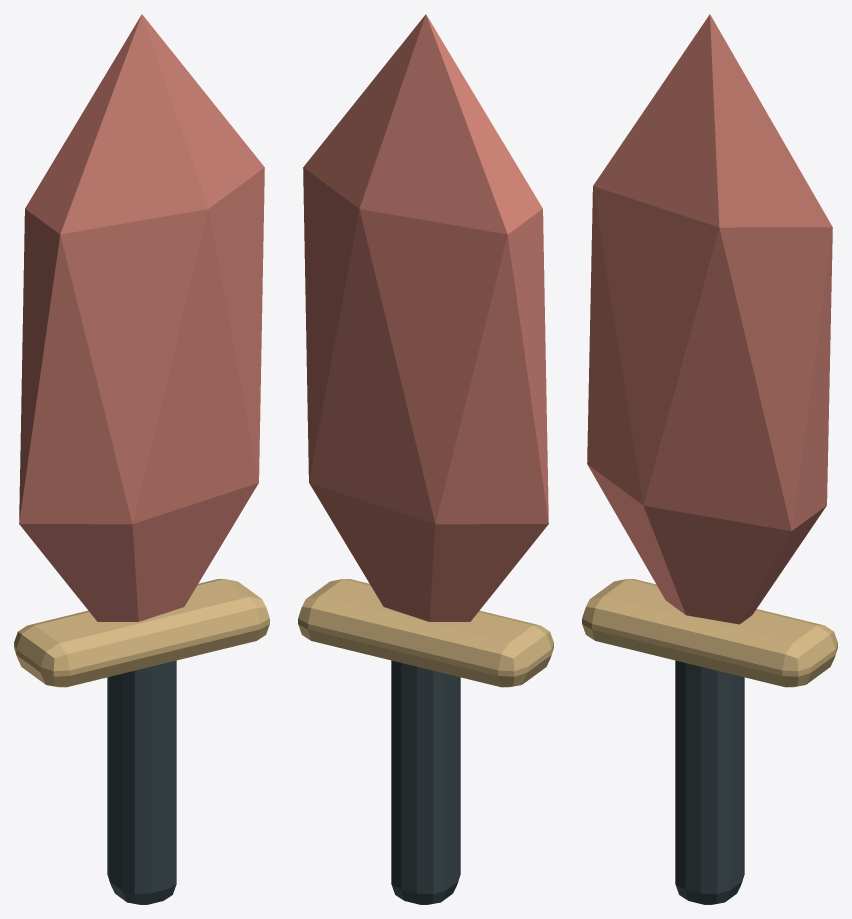
File: arm_relay_weapon.glb
3 views of the same model, side by side, from view 1: azimuth 30°, elevation 25°; view 2: azimuth 150°, elevation 25°; view 3: azimuth 330°, elevation 25° (orthographic).
Visible parts, largest first — view 1: arm_relay_weapon; view 2: arm_relay_weapon; view 3: arm_relay_weapon.
Boxes of the visible parts, box(x1,y1,x2,y2) form: arm_relay_weapon: box(14, 14, 269, 904); arm_relay_weapon: box(298, 14, 553, 904); arm_relay_weapon: box(582, 14, 837, 904).
Bounding box in the file's own units: 0.4651 × 1.6 × 0.1871.
